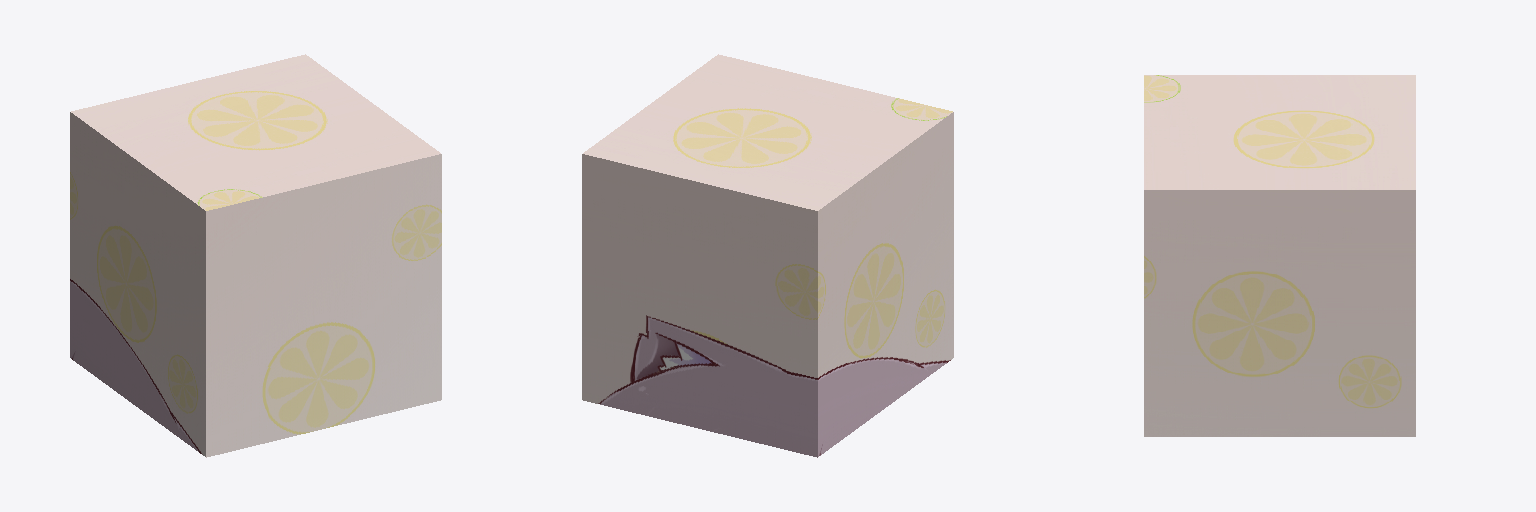
3 views of the same model, side by side, from view 1: azimuth 30°, elevation 25°; view 2: azimuth 150°, elevation 25°; view 3: azimuth 270°, elevation 25° (orthographic).
Bounding box in the file's own units: 0.6 × 0.6 × 0.6.
1 materials, 1 textured.